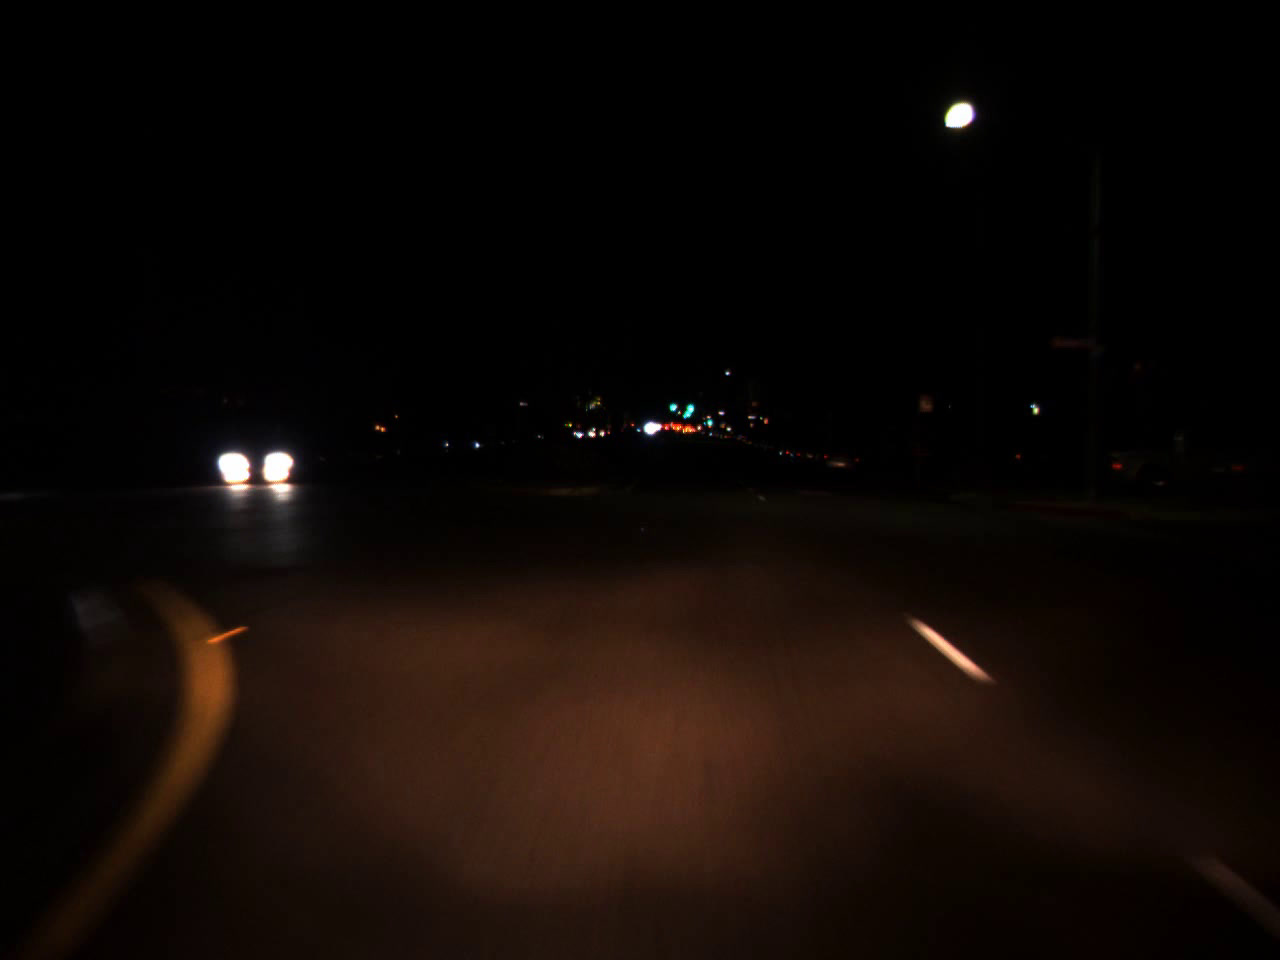go: (682, 393, 696, 417), (667, 397, 677, 412), (706, 412, 713, 427)
